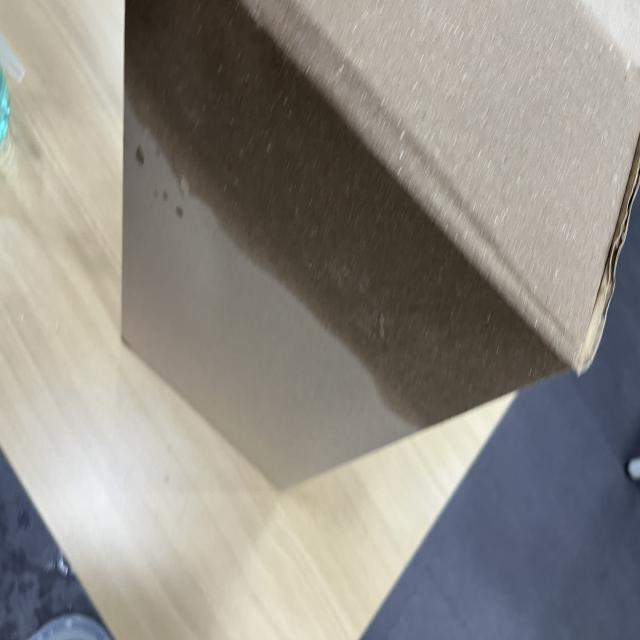wet: (126, 0, 640, 413)
